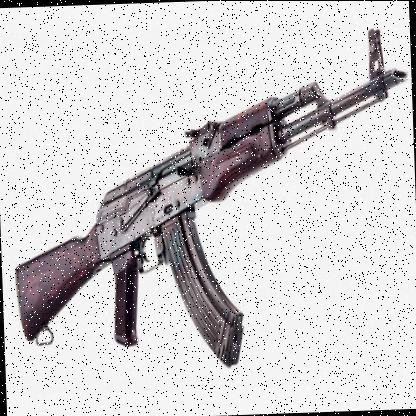rifle: (11, 62, 415, 378)
